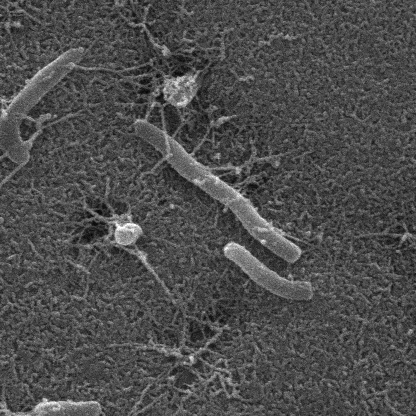cell2cell: (96, 411, 135, 416)
cell2surface: (215, 153, 266, 180), (1, 162, 24, 185), (110, 407, 157, 416), (0, 151, 11, 184)
filament: (134, 120, 302, 263), (0, 48, 84, 167)
regular: (225, 243, 315, 301), (33, 401, 103, 416)
